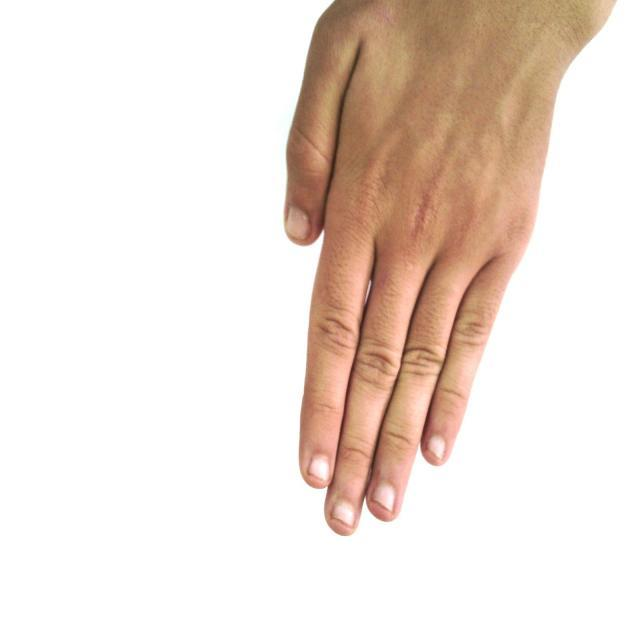Fingernail: (287, 208, 310, 240), (332, 503, 355, 526), (374, 484, 395, 509), (309, 457, 329, 481), (428, 436, 445, 459)
